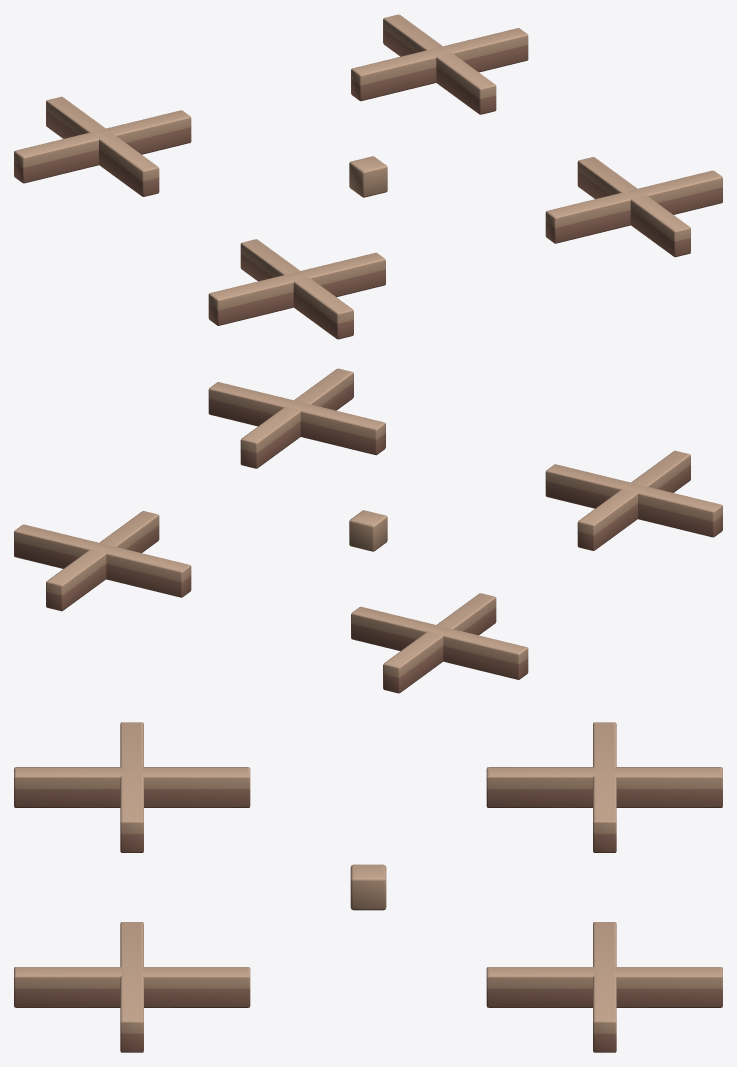
The model's file is Props.fbx.
3 views of the same model, one above another, from view 1: azimuth 30°, elevation 25°; view 2: azimuth 150°, elevation 25°; view 3: azimuth 270°, elevation 25° (orthographic). The views are drawn at different scales.
Parts seen in each view (by area): view 1: Box20-3_2 (2), Box20-3_2 (6), Box20-3_2, Box20-3_2 (4), Box20-3_2 (5), Box20-3_2 (7), Box20-3_2 (1), Box20-3_2 (3), Box1-5 (7); view 2: Box20-3_2 (6), Box20-3_2 (2), Box20-3_2 (4), Box20-3_2, Box20-3_2 (7), Box20-3_2 (1), Box20-3_2 (5), Box20-3_2 (3), Box1-5 (7); view 3: Box20-3_2 (5), Box20-3_2 (1), Box20-3_2 (3), Box20-3_2 (7), Box20-3_2 (2), Box20-3_2 (6), Box20-3_2, Box20-3_2 (4), Box1-5 (7).
Boxes of the visible parts, bbox=[...] form: Box20-3_2 (2): bbox=[351, 28, 528, 101]; Box20-3_2 (6): bbox=[545, 170, 722, 243]; Box20-3_2: bbox=[208, 252, 385, 325]; Box20-3_2 (4): bbox=[14, 110, 191, 183]; Box20-3_2 (5): bbox=[46, 96, 159, 196]; Box20-3_2 (7): bbox=[577, 157, 690, 257]; Box20-3_2 (1): bbox=[240, 239, 353, 339]; Box20-3_2 (3): bbox=[383, 14, 496, 114]; Box1-5 (7): bbox=[349, 156, 387, 197]; Box20-3_2 (6): bbox=[208, 382, 385, 455]; Box20-3_2 (2): bbox=[14, 524, 191, 597]; Box20-3_2 (4): bbox=[351, 606, 528, 679]; Box20-3_2: bbox=[545, 464, 722, 537]; Box20-3_2 (7): bbox=[240, 368, 353, 468]; Box20-3_2 (1): bbox=[577, 450, 690, 550]; Box20-3_2 (5): bbox=[383, 593, 496, 693]; Box20-3_2 (3): bbox=[46, 511, 159, 611]; Box1-5 (7): bbox=[349, 510, 387, 551]; Box20-3_2 (5): bbox=[486, 767, 722, 807]; Box20-3_2 (1): bbox=[14, 767, 250, 807]; Box20-3_2 (3): bbox=[486, 967, 722, 1007]; Box20-3_2 (7): bbox=[14, 967, 250, 1007]; Box20-3_2 (2): bbox=[593, 922, 616, 1052]; Box20-3_2 (6): bbox=[120, 922, 143, 1052]; Box20-3_2: bbox=[120, 722, 143, 852]; Box20-3_2 (4): bbox=[593, 722, 616, 852]; Box1-5 (7): bbox=[350, 864, 386, 910].
Size of the model in its own units: 30 by 1.5 by 30.
